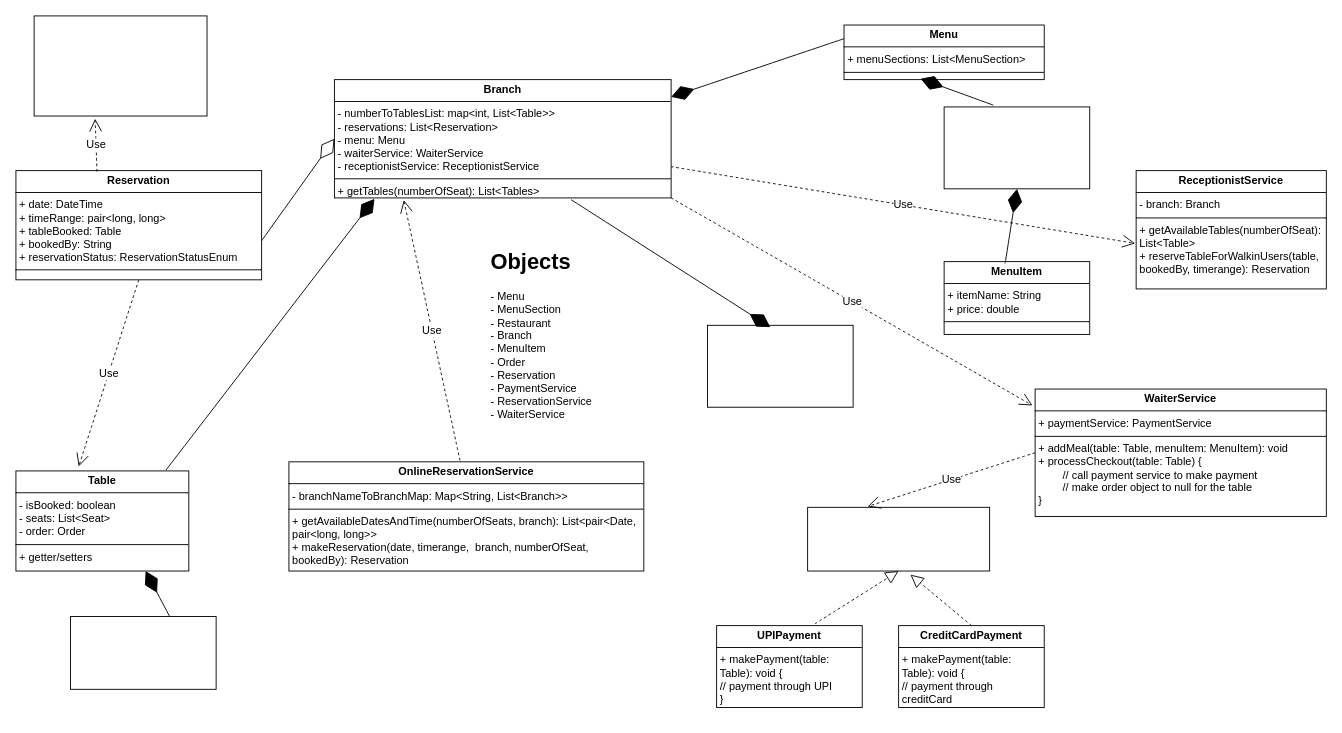
Image size: 1342x733. Some labels were removed from this diagram. The shapes that lost their labels are listed below. From the top down, each one's centre as x and y in pixels, then its label:
the point at 120,65: ReservationStatusEnum { BOOKED, CANCELED, EXPIRED }
the point at 1016,147: MenuSection + menuItems: List<MenuItem>
the point at 780,365: Restaurant + branches: List<Branch>
the point at 898,538: <<Interface>> PaymentService + makePayment(table: Table): void;
the point at 143,652: Seat + seatIdx
